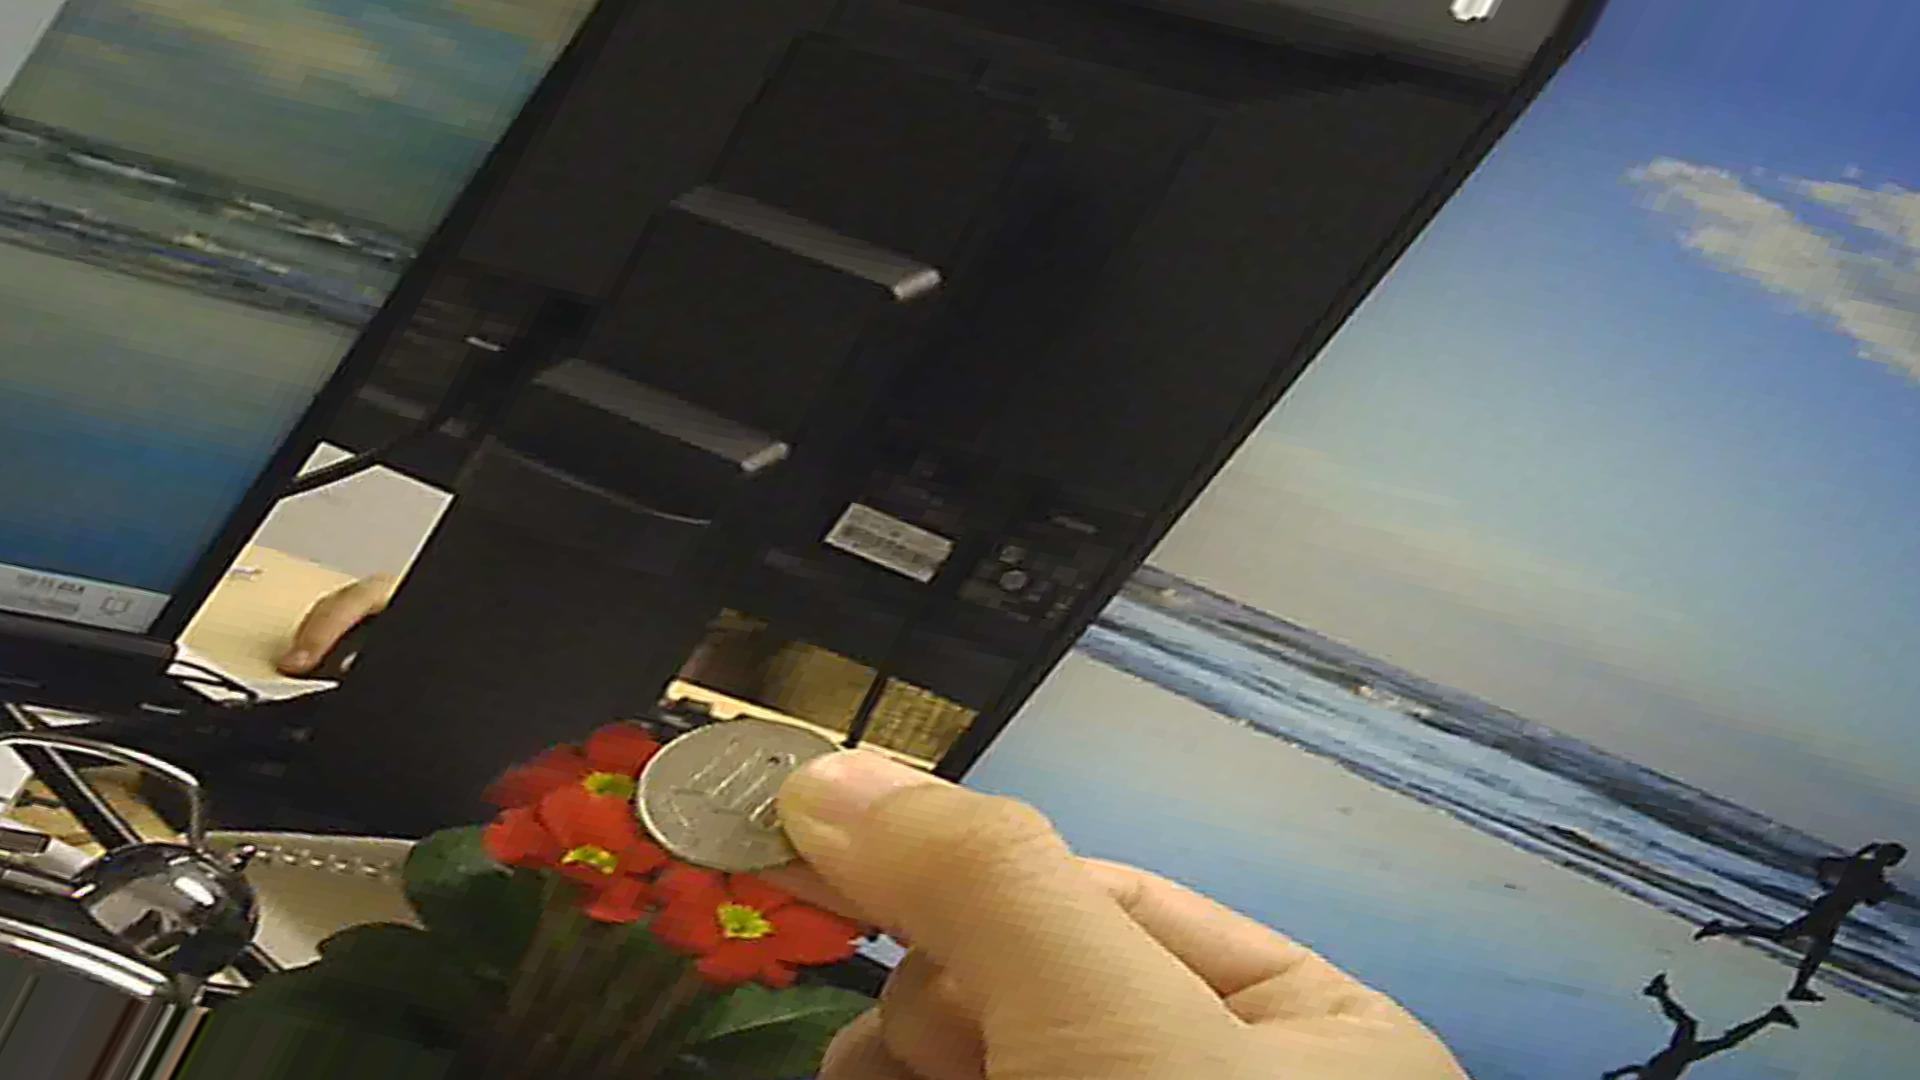100 Yen: (644, 724, 847, 872)
